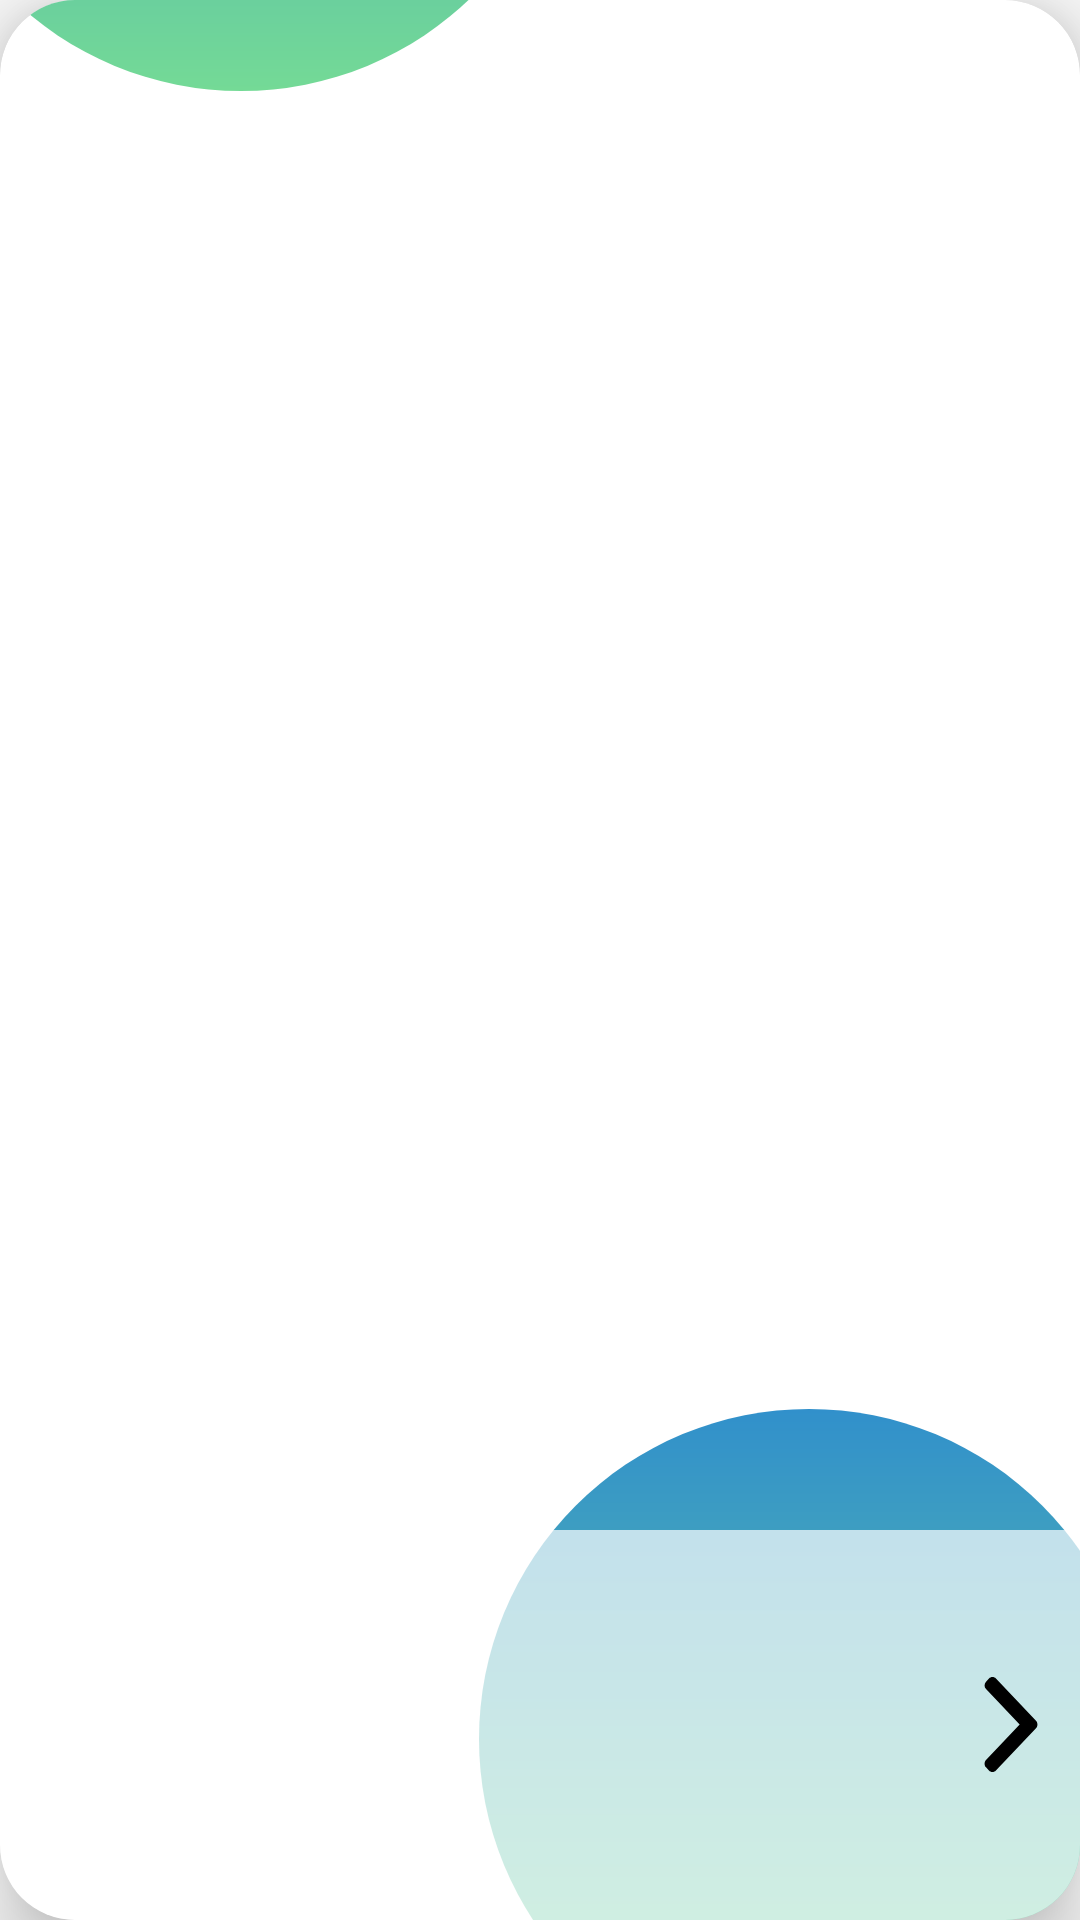

Named icons in this screenshot (1080 x 1920) and their bounding boxes, (x1, y1, x2, y2):
right arrow: (984, 1677, 1038, 1772)
